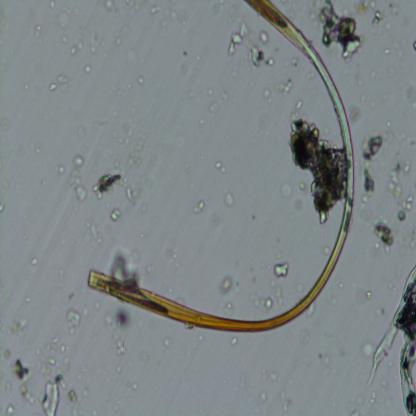Background material: (286, 115, 348, 220), (6, 338, 80, 414), (312, 0, 360, 58), (228, 19, 275, 69), (253, 365, 292, 411), (121, 134, 147, 200), (98, 307, 131, 358), (360, 132, 384, 202), (386, 166, 413, 222), (198, 80, 228, 128), (107, 247, 140, 285), (296, 330, 329, 367), (77, 206, 102, 247), (348, 287, 384, 315), (95, 164, 124, 198), (0, 307, 27, 341), (138, 2, 172, 27), (70, 152, 88, 198), (369, 219, 394, 252), (110, 16, 130, 56), (262, 77, 295, 101), (359, 1, 384, 31), (384, 115, 411, 142), (48, 0, 72, 28), (66, 29, 88, 56), (343, 389, 366, 414), (354, 335, 379, 358), (64, 304, 80, 335), (346, 96, 366, 120), (48, 72, 70, 92), (270, 260, 293, 279), (252, 295, 279, 310), (404, 86, 416, 115), (352, 73, 370, 91), (129, 69, 146, 87), (220, 275, 236, 294), (33, 21, 49, 40), (128, 373, 144, 391), (212, 160, 228, 174), (191, 200, 206, 214), (224, 191, 234, 210), (107, 209, 121, 222), (162, 333, 174, 347), (226, 334, 238, 348), (294, 99, 304, 112), (386, 45, 394, 60), (30, 256, 38, 267), (0, 194, 4, 214), (84, 65, 92, 74), (412, 40, 416, 51)
Cellulose filter fibre: (370, 266, 416, 410)
